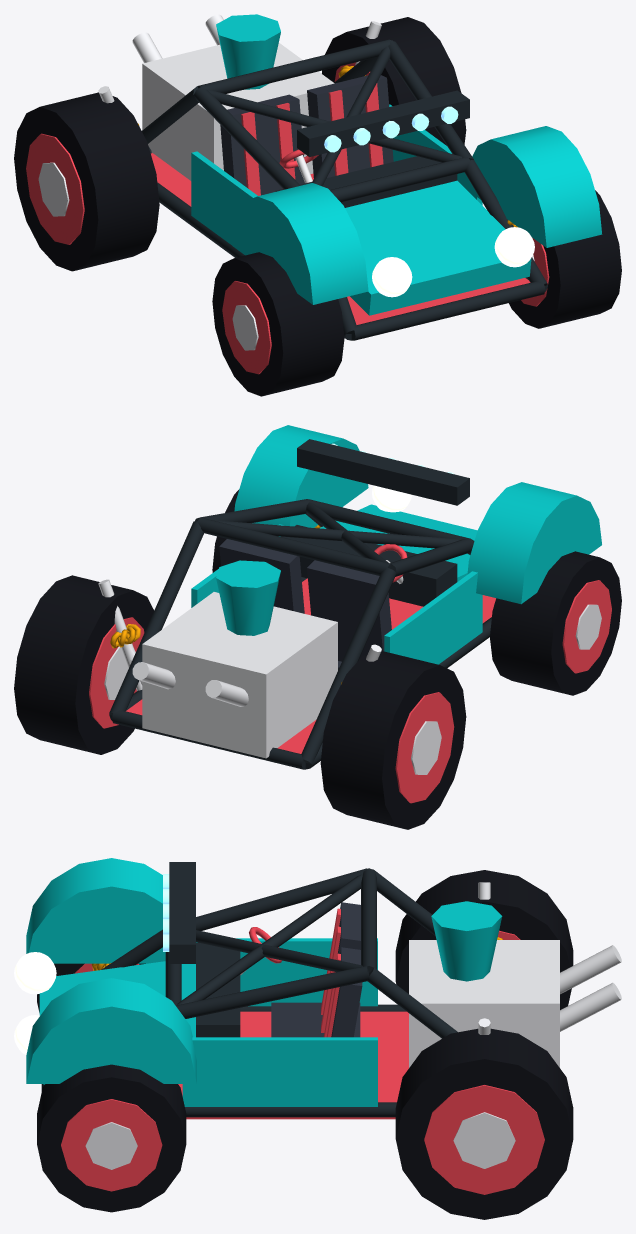
File: cyber_dune_buggy.glb
3 renders of one model, top to bottom at view 1: azimuth 30°, elevation 25°; view 2: azimuth 150°, elevation 25°; view 3: azimuth 270°, elevation 25°, orthographic. The views are drawn at different scales.
Visible parts, largest first — view 1: Cyber_Dune_Buggy; view 2: Cyber_Dune_Buggy; view 3: Cyber_Dune_Buggy.
Part boxes in pixels (x1,y1,x2,y2): Cyber_Dune_Buggy: [14, 14, 621, 396]; Cyber_Dune_Buggy: [14, 425, 621, 829]; Cyber_Dune_Buggy: [14, 858, 621, 1219].
Size of the model in its own units: 2.56 by 1.38 by 3.42.
